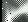person: (3, 1, 28, 22)
